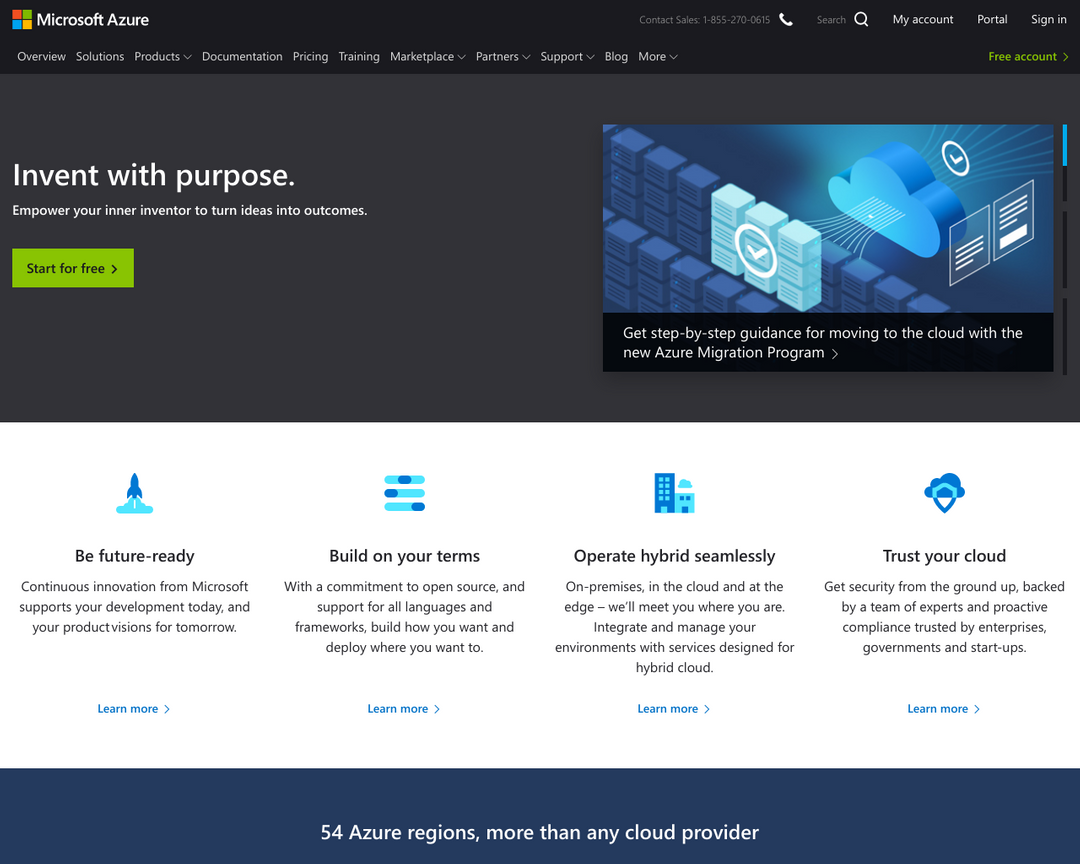Microsoft: (10, 6, 104, 36)
